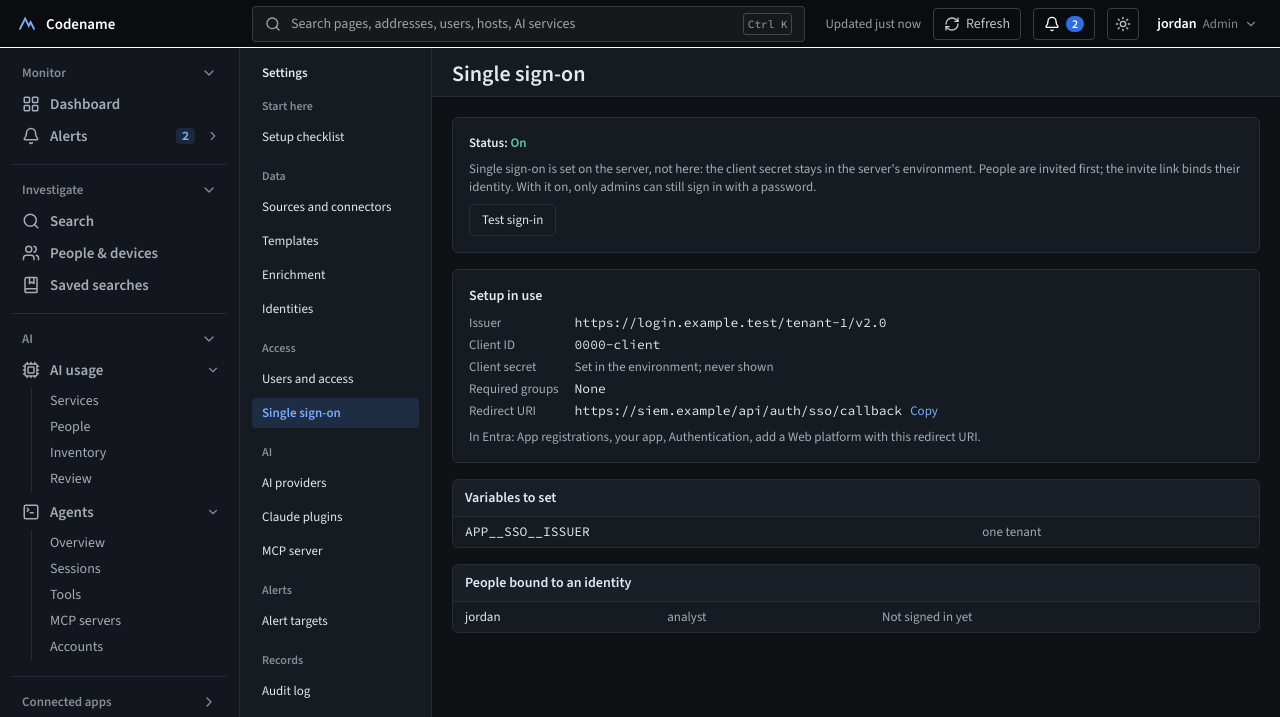
Test case: Settings > Single sign-on (F64) › shows the setup without the secret, the redirect URI, who is bound, and tests it
This screenshot has width=1280, height=717.
Expected: the text "On" is shown, [510,134,526,151]
Expected: the text "https://siem.example/api/auth/sso/callback" is shown, [575,402,902,420]
Click the button "Test sign-in": point(513, 220) [469,204,556,236]
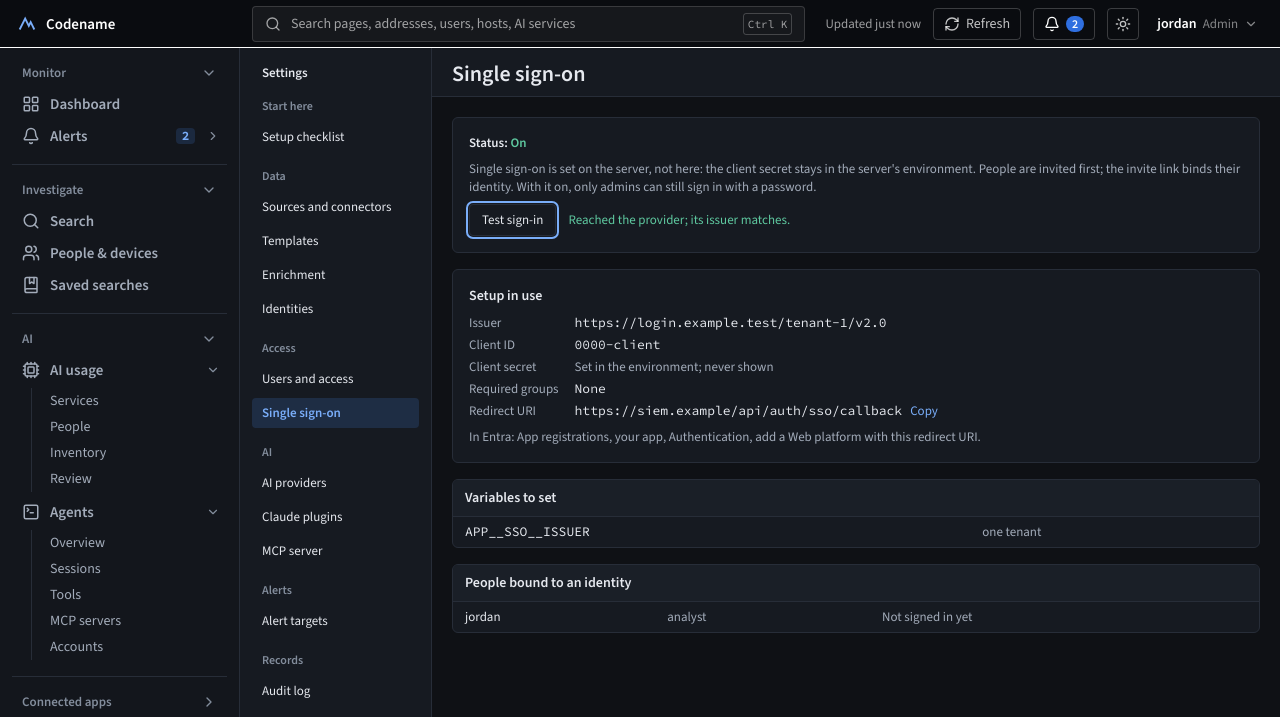
Expected: the message shows "issuer matches", [568,211,790,228]
